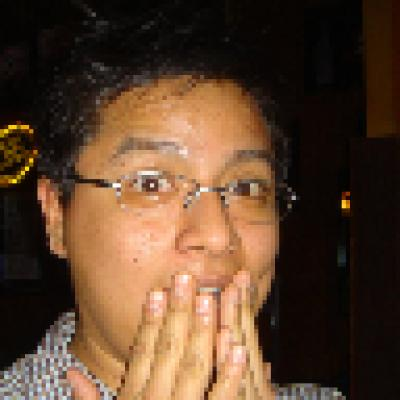surprise: (75, 78, 285, 360)
